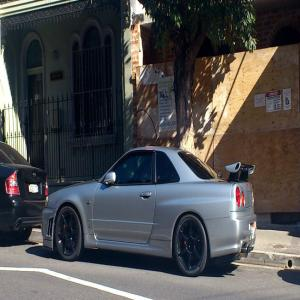Vehicle-registration-plate: (30, 186, 40, 196)
